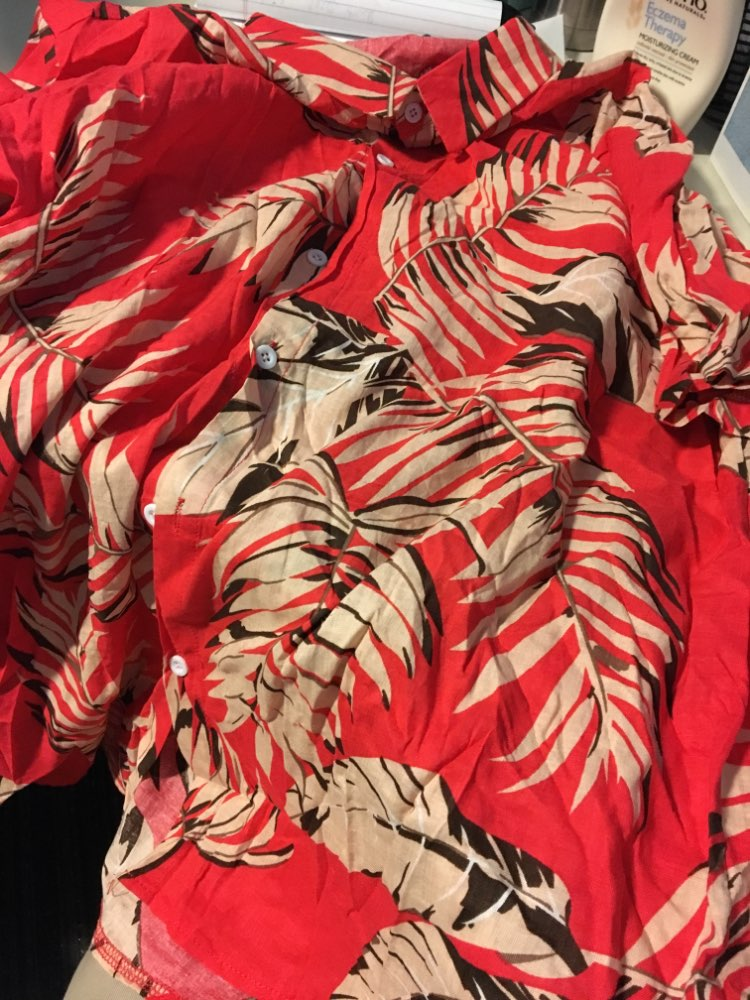shirts: (12, 8, 750, 979)
